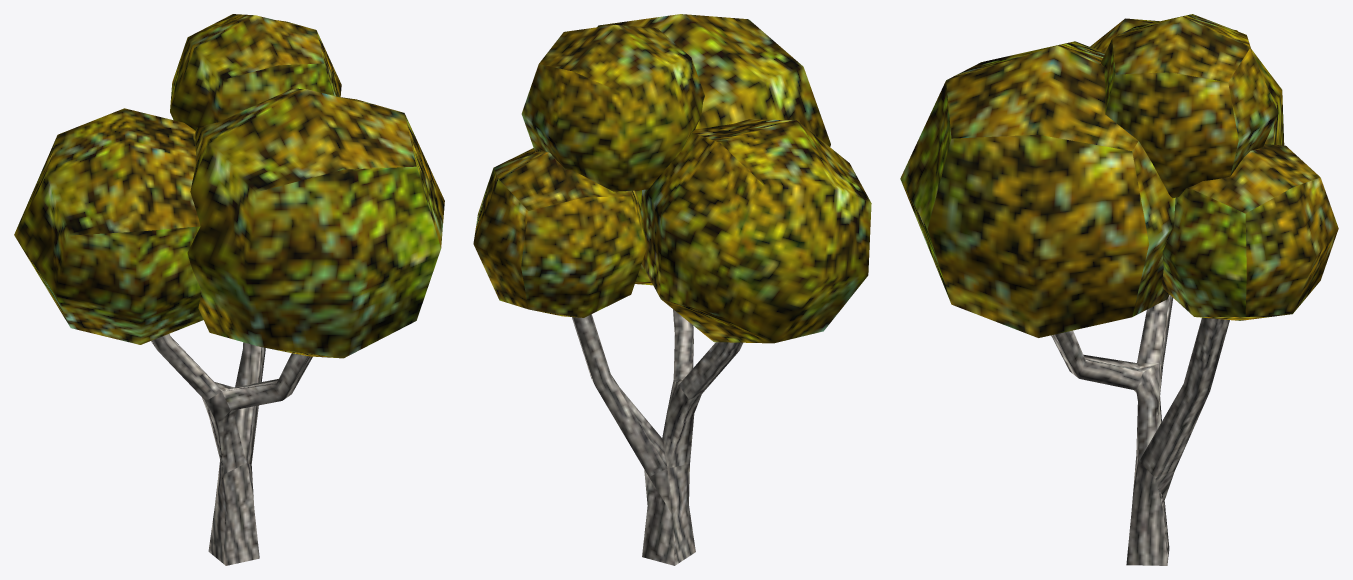
File: yellow tree .fbx
3 views of the same model, side by side, from view 1: azimuth 30°, elevation 25°; view 2: azimuth 150°, elevation 25°; view 3: azimuth 270°, elevation 25° (orthographic). The views are drawn at different scales.
Visible parts, largest first — view 1: Cube.001; view 2: Cube.001; view 3: Cube.001.
Part boxes in pixels (bbox=[...]): Cube.001: bbox=[14, 14, 444, 565]; Cube.001: bbox=[473, 14, 871, 565]; Cube.001: bbox=[900, 14, 1338, 565].
Size of the model in its own units: 204 by 296 by 210.
